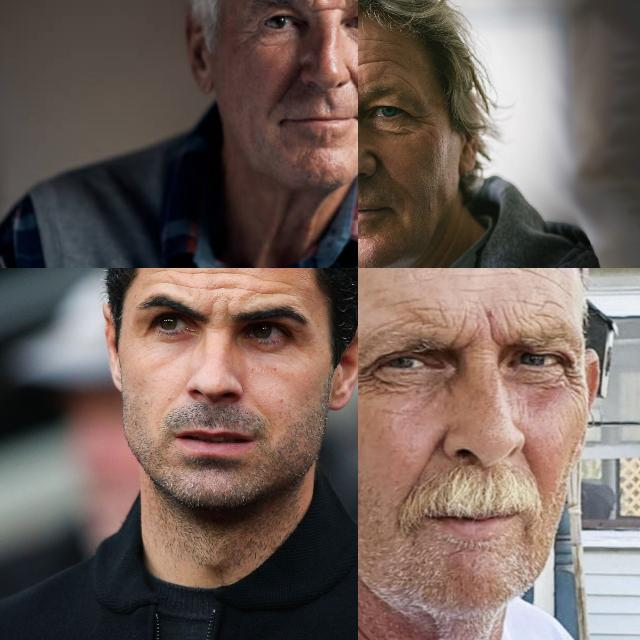crows_feet: (562, 357, 588, 397), (358, 357, 377, 393), (240, 24, 260, 56), (411, 112, 434, 134)
forehead: (158, 268, 279, 296), (494, 298, 556, 328), (416, 298, 456, 329), (358, 46, 400, 74), (515, 268, 564, 290), (450, 268, 506, 285)
frown_line: (478, 310, 502, 344), (452, 317, 472, 349), (307, 0, 345, 16)
gummy_smile: (417, 426, 443, 482), (270, 68, 304, 102), (368, 150, 396, 182), (345, 69, 358, 107)
